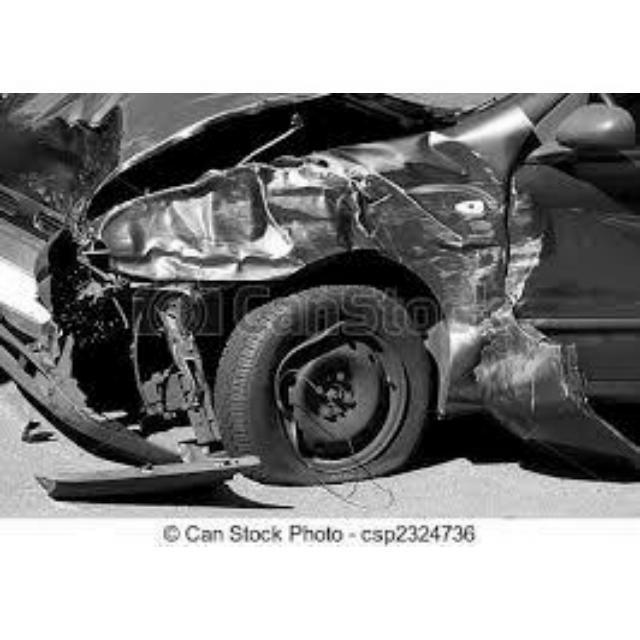bonnet-dent: (41, 94, 457, 173)
fender-dent: (159, 120, 522, 324)
